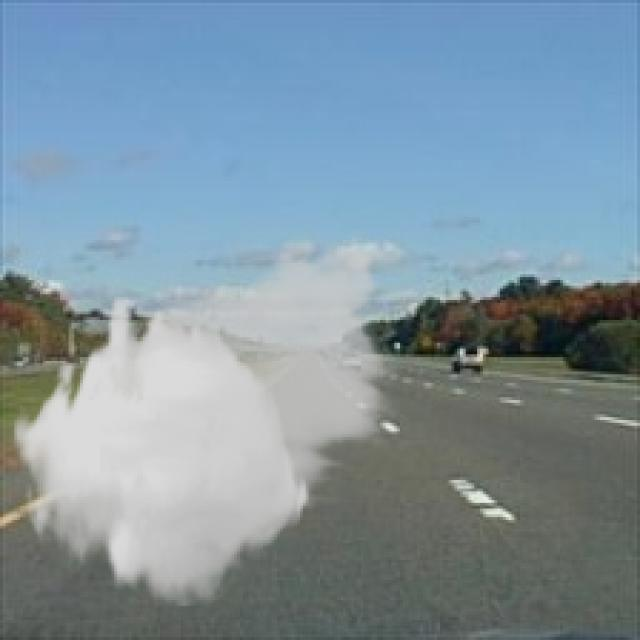Smoke: (11, 225, 400, 606)
